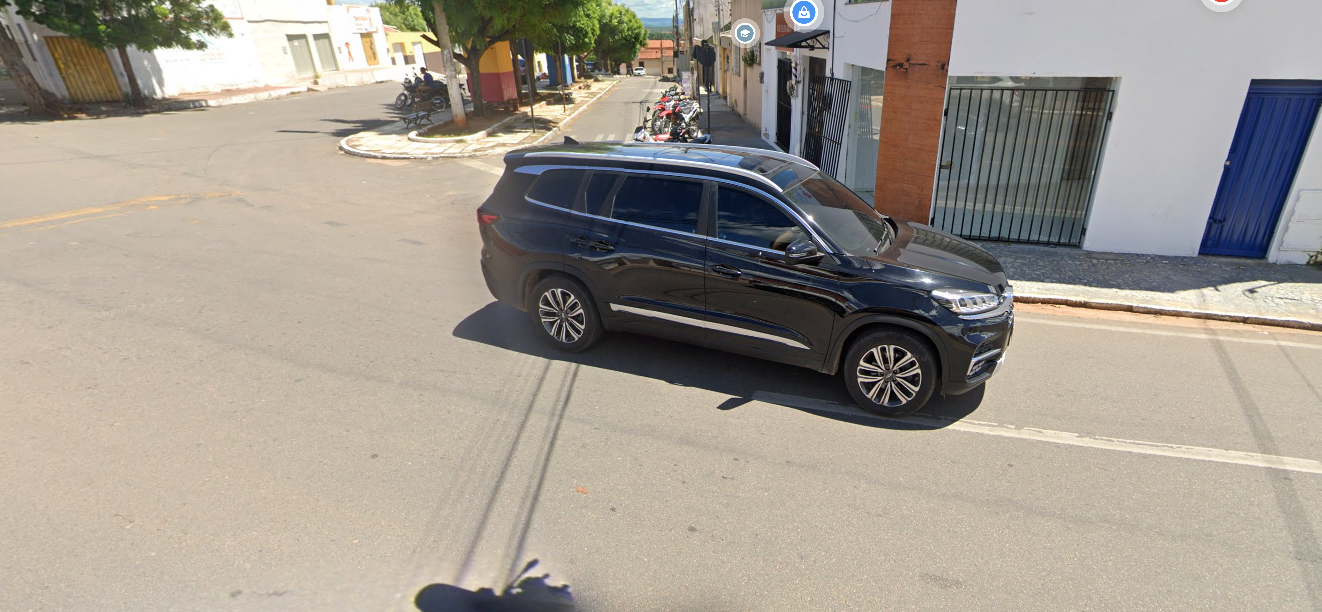car: (471, 133, 1020, 425)
